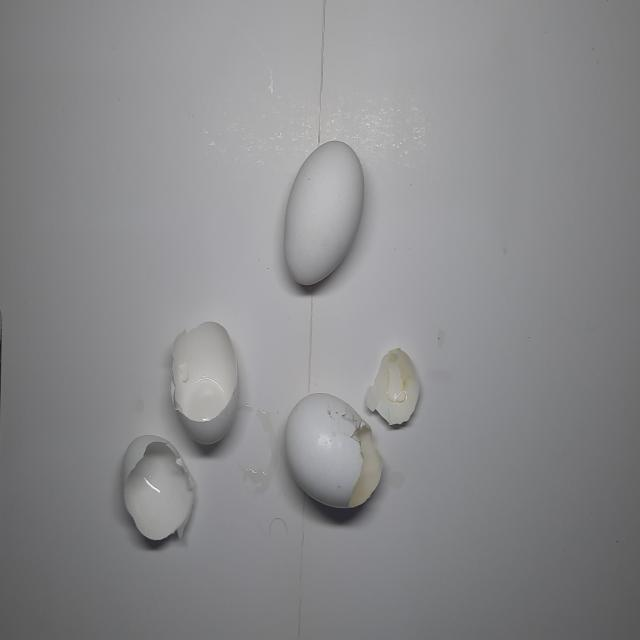egg shell: (281, 136, 367, 289), (281, 391, 383, 512), (168, 317, 241, 448), (120, 432, 197, 544), (366, 341, 418, 434)
